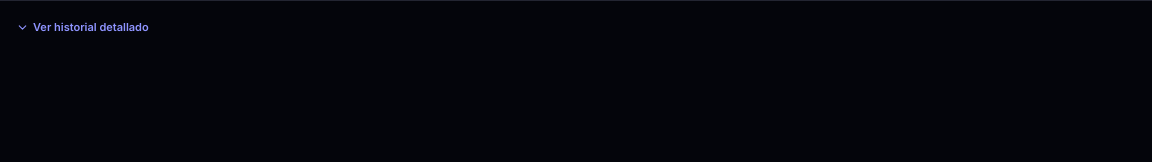
Test: BuyerHistoryDetail › CO con ID desconocido cae al fallback, no inventa nombre
Click the button "Ver historial detallado" at (91, 27), box [16,5,1136,49]
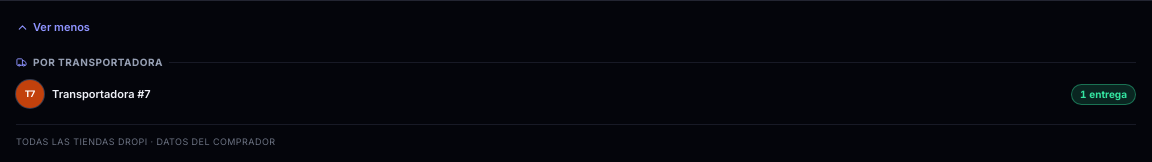
Expected: the text "Transportadora #7" is shown, [52,86,151,102]
Expected: the text "T7" is shown, [16,80,44,108]
